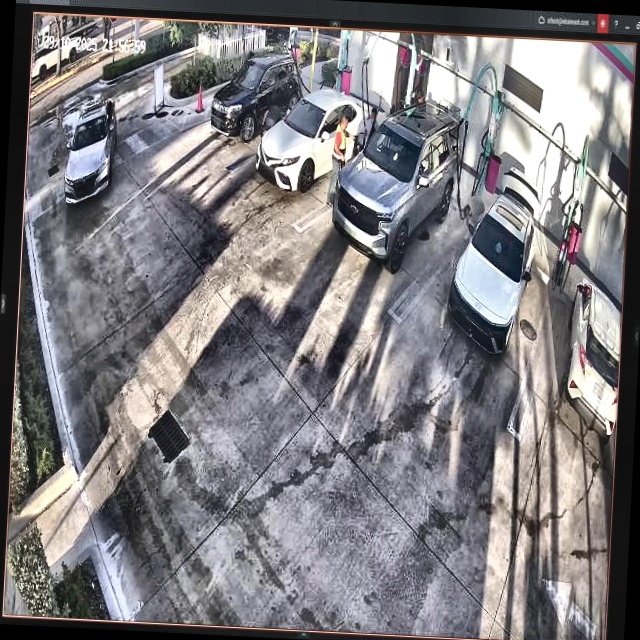Car: (330, 94, 461, 276), (447, 169, 540, 357), (256, 84, 379, 195), (210, 57, 306, 147)
